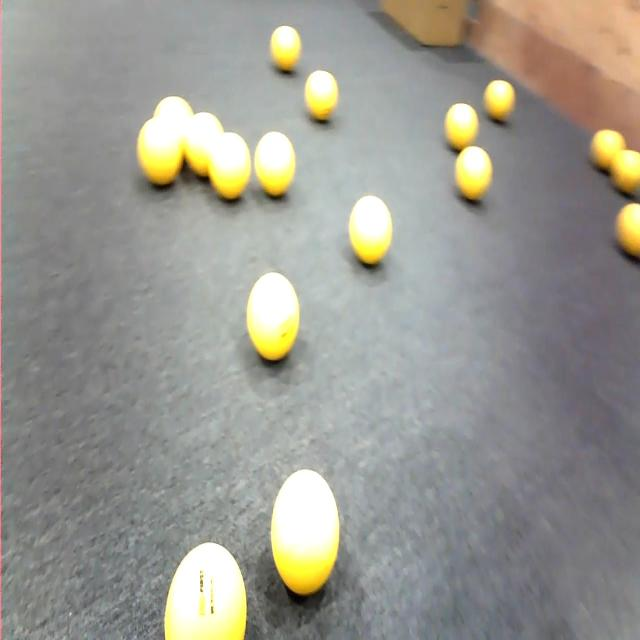fuel: (260, 455, 347, 623), (142, 528, 252, 640), (234, 247, 313, 386), (251, 104, 311, 220), (337, 178, 405, 280), (125, 113, 194, 196), (202, 131, 261, 217), (446, 131, 496, 218), (437, 88, 492, 167), (597, 172, 640, 269), (297, 59, 353, 131), (146, 85, 202, 149), (182, 103, 229, 179), (483, 60, 524, 144), (586, 117, 628, 191), (265, 14, 307, 72), (602, 140, 640, 197)
